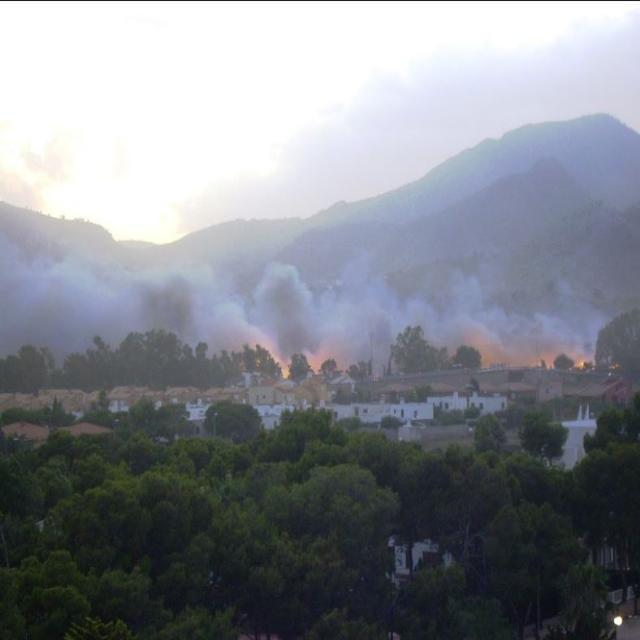Smoke: (1, 236, 614, 380)
